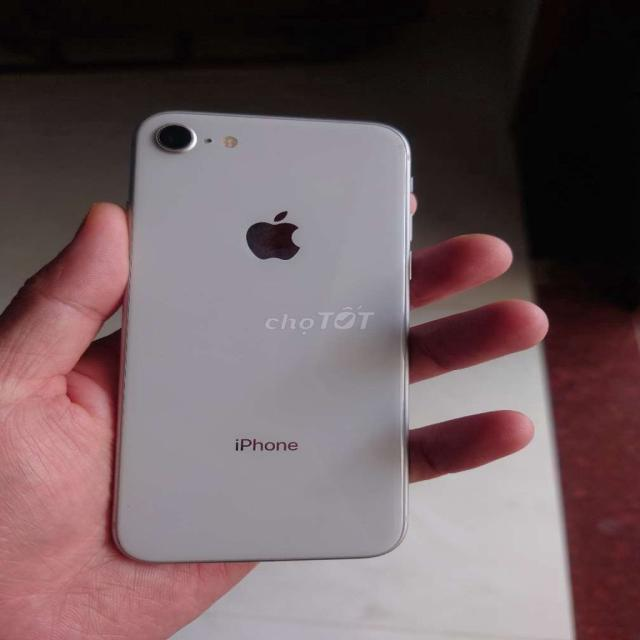gen_7_8: (101, 101, 422, 568)
